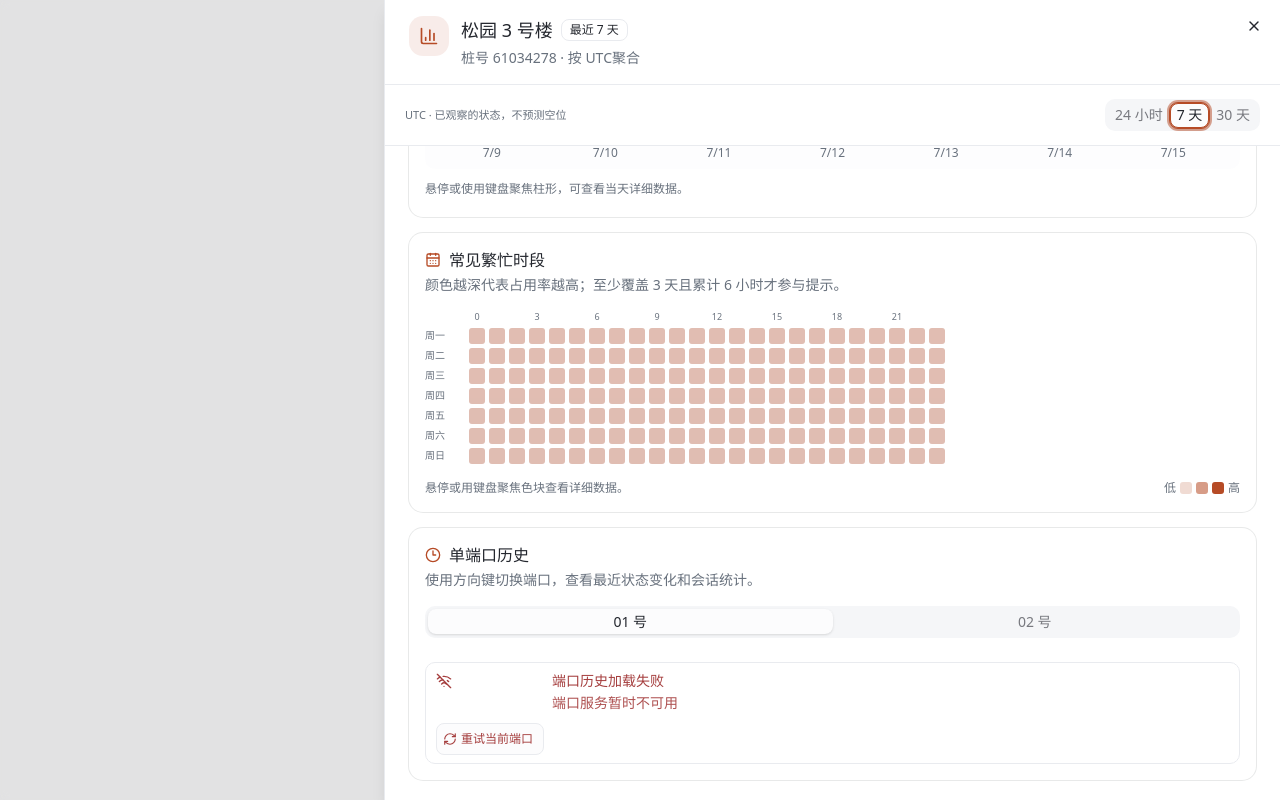
Test: DeviceHistorySheet › retries a failed port without reloading the device summary
(page scrolled)
Expected: the text "端口服务暂时不可用" is shown, [552,692,678,712]
Click the button "重试当前端口".
click(490, 738)  # box [436,722,544,754]
(page scrolled)
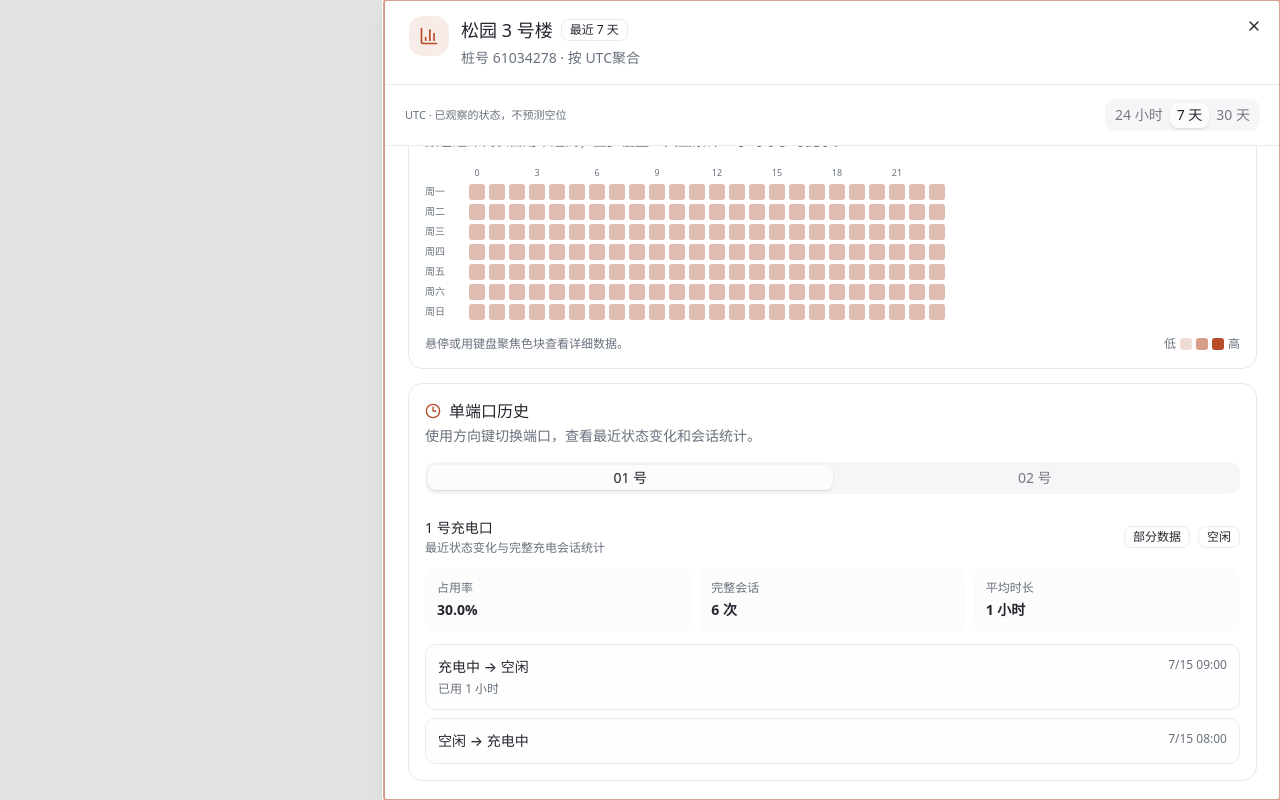
Expected: the list named "1 号口状态时间线" is shown, [425,644,1240,764]
